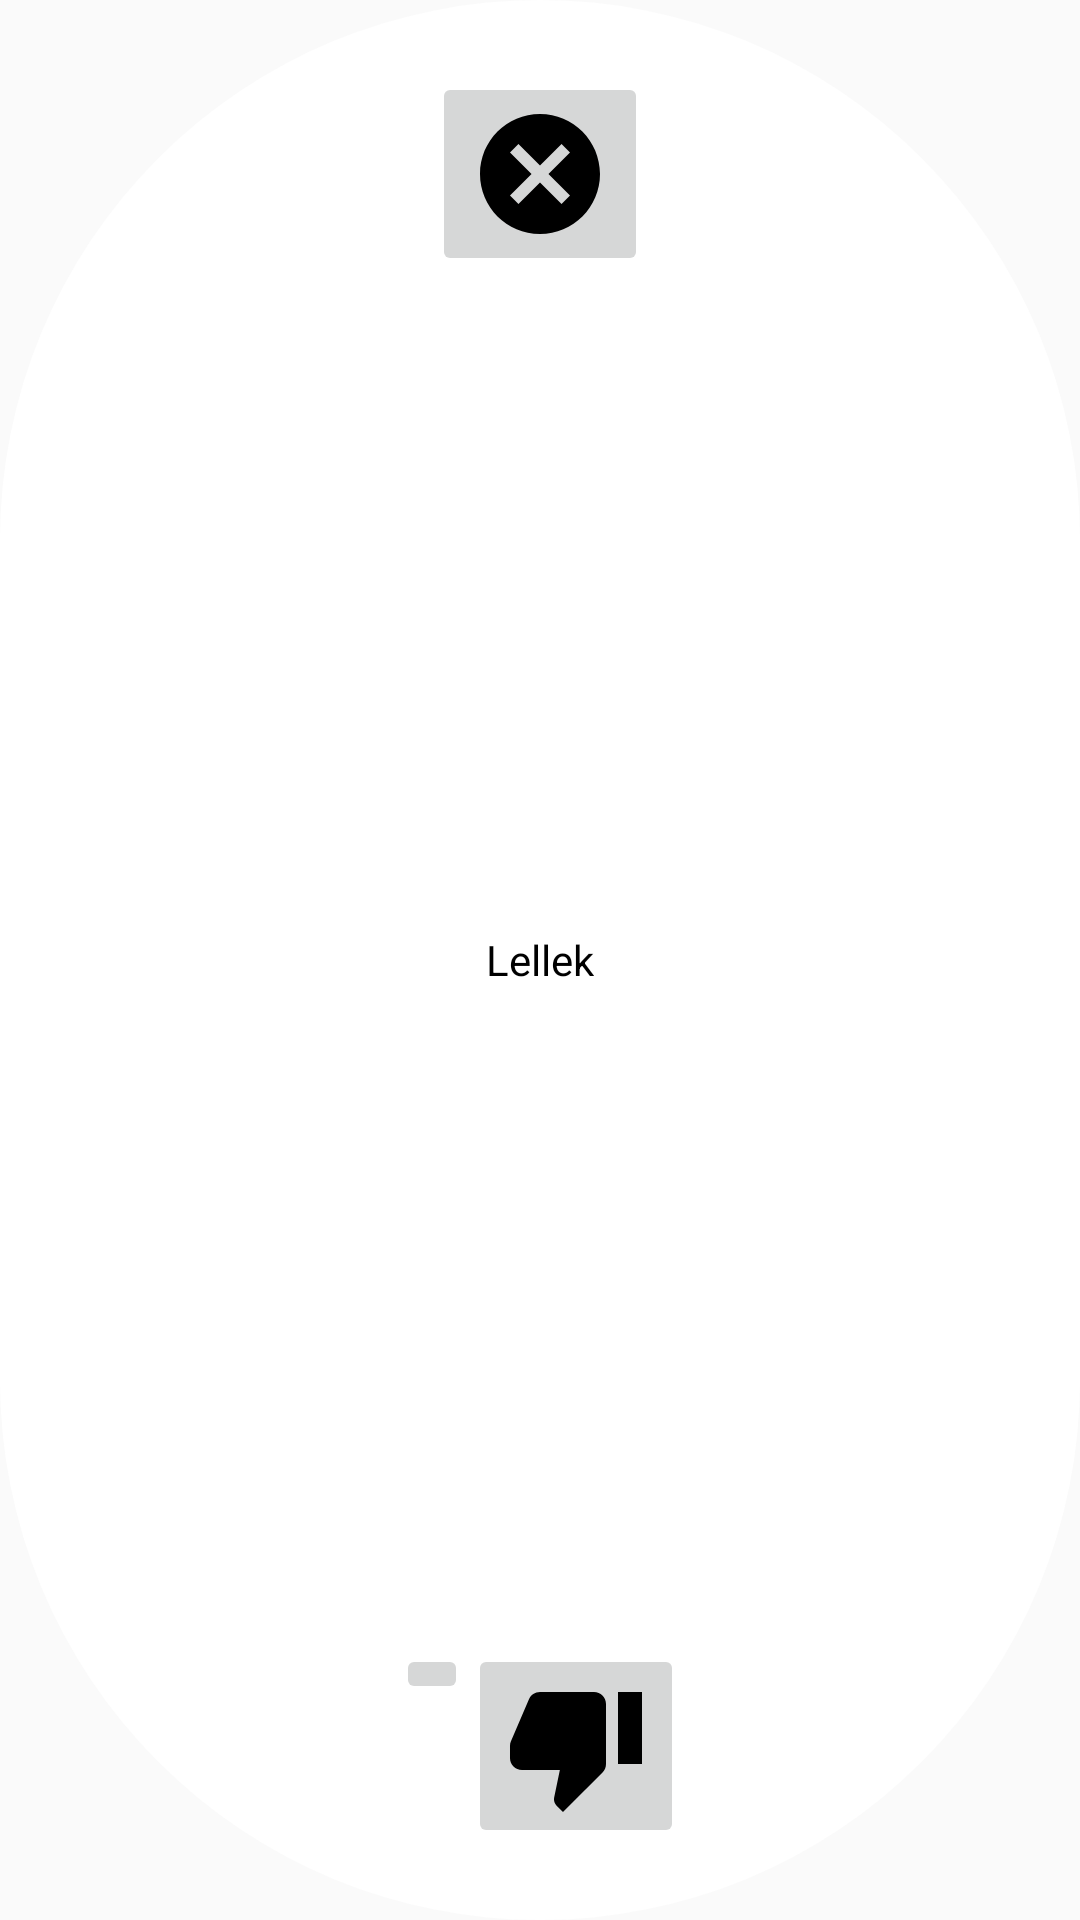

Named icons in this screenshot (1080 × 1920) and their bounding boxes, (x1, y1, x2, y2):
cancel: (444, 90, 636, 258)
thumb down: (480, 1662, 672, 1830)
